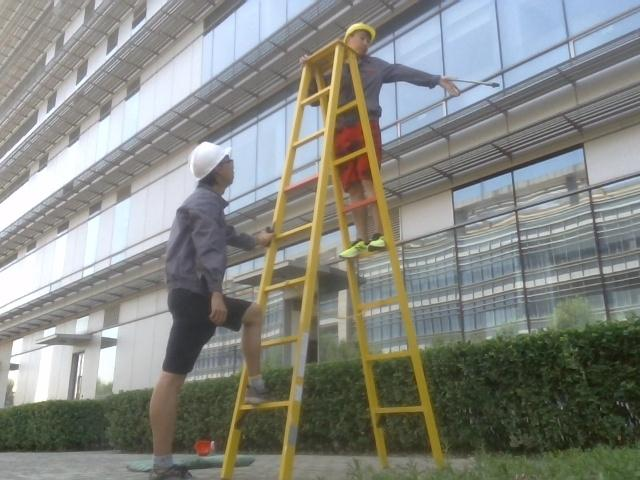未系安全绳的工作人员: (295, 19, 462, 261)
